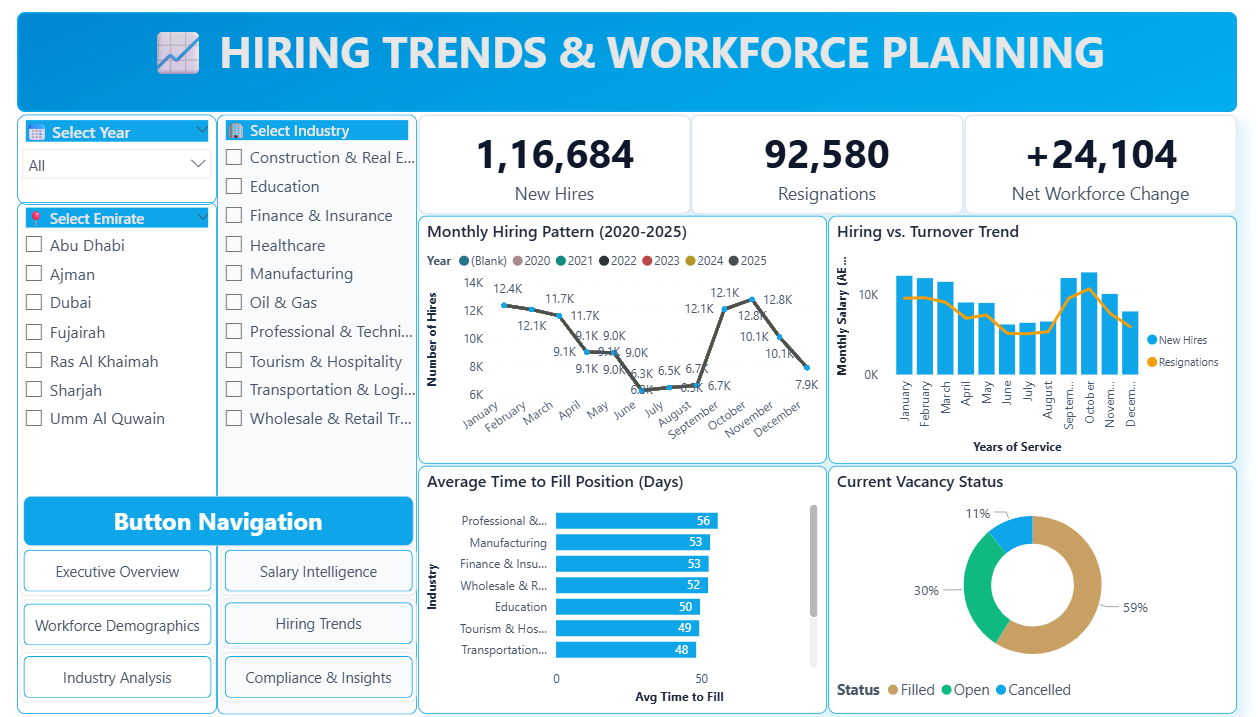

The page's visual inventory and layout, read from the dashboard file:
{"tool":"powerbi","page":{"name":"Hiring Trends","canvas":[1280,720],"ordinal":4},"visuals":[{"type":"image","box":[30,14.8,1220,100.1],"z":0},{"type":"textbox","box":[30,14.8,1220,100.1],"z":1000},{"type":"card","fields":{"Values":["All Measures.New Hires"]},"box":[430.9,117.5,273,100],"z":2000},{"type":"card","fields":{"Values":["All Measures.Resignations"]},"box":[704.2,117.5,273,100],"z":3000},{"type":"card","fields":{"Values":["All Measures.Net Workforce Change"]},"box":[977.5,117,272.5,100],"z":4000},{"type":"lineChart","title":"Monthly Hiring Pattern (2020-2025)","fields":{"Category":["hiring_trends.Month.Variation.Date Hierarchy.Month"],"Y":["All Measures.New Hires"],"Series":["Date.Year"]},"box":[431.6,218.5,409,248],"z":5000},{"type":"lineClusteredColumnComboChart","title":"Hiring vs. Turnover Trend","fields":{"Category":["hiring_trends.Month.Variation.Date Hierarchy.Month"],"Y2":["All Measures.Resignations"],"Y":["All Measures.New Hires"]},"box":[841.2,218.5,408.8,248],"z":6000},{"type":"clusteredBarChart","title":"Average Time to Fill Position (Days)","fields":{"Category":["vacancies.Industry"],"Y":["All Measures.Avg Time to Fill"]},"box":[431.6,468.8,408.8,248],"z":7000},{"type":"donutChart","title":"Current Vacancy Status","fields":{"Category":["vacancies.Status"],"Y":["CountNonNull(vacancies.Vacancy_ID)"]},"box":[841,469,409,248],"z":8000},{"type":"slicer","fields":{"Values":["Date.Year"]},"box":[30,117.5,200,90],"z":9000},{"type":"slicer","fields":{"Values":["workforce_data.Emirate"]},"box":[30,205.5,200,512],"z":10000},{"type":"slicer","fields":{"Values":["workforce_data.Industry"]},"box":[230.3,117,200.3,600],"z":11000},{"type":"actionButton","box":[32,548.8,196,50],"z":11001},{"type":"actionButton","box":[32,601.9,196,50],"z":11002},{"type":"actionButton","box":[32,655,196,50],"z":11003},{"type":"actionButton","box":[234,548.3,196,50],"z":11004},{"type":"actionButton","box":[234,601.6,196,50],"z":11005},{"type":"actionButton","box":[234,655,196,50],"z":11006},{"type":"textbox","box":[36,498.8,390,50],"z":11007}]}

Visuals, with their boxes in screenshot pixels (x1, y1, x2, y2), scaled from the page's 1280x720 canvas onto the 1260x717 screenshot:
image: <bbox>30, 15, 1230, 114</bbox>
textbox: <bbox>30, 15, 1230, 114</bbox>
card - All Measures.New Hires: <bbox>424, 117, 693, 217</bbox>
card - All Measures.Resignations: <bbox>693, 117, 962, 217</bbox>
card - All Measures.Net Workforce Change: <bbox>962, 117, 1230, 216</bbox>
"Monthly Hiring Pattern (2020-2025)" lineChart: <bbox>425, 218, 827, 465</bbox>
"Hiring vs. Turnover Trend" lineClusteredColumnComboChart: <bbox>828, 218, 1230, 465</bbox>
"Average Time to Fill Position (Days)" clusteredBarChart: <bbox>425, 467, 827, 714</bbox>
"Current Vacancy Status" donutChart: <bbox>828, 467, 1230, 714</bbox>
slicer - Date.Year: <bbox>30, 117, 226, 207</bbox>
slicer - workforce_data.Emirate: <bbox>30, 205, 226, 715</bbox>
slicer - workforce_data.Industry: <bbox>227, 117, 424, 714</bbox>
actionButton: <bbox>32, 547, 224, 596</bbox>
actionButton: <bbox>32, 599, 224, 649</bbox>
actionButton: <bbox>32, 652, 224, 702</bbox>
actionButton: <bbox>230, 546, 423, 596</bbox>
actionButton: <bbox>230, 599, 423, 649</bbox>
actionButton: <bbox>230, 652, 423, 702</bbox>
textbox: <bbox>35, 497, 419, 547</bbox>
